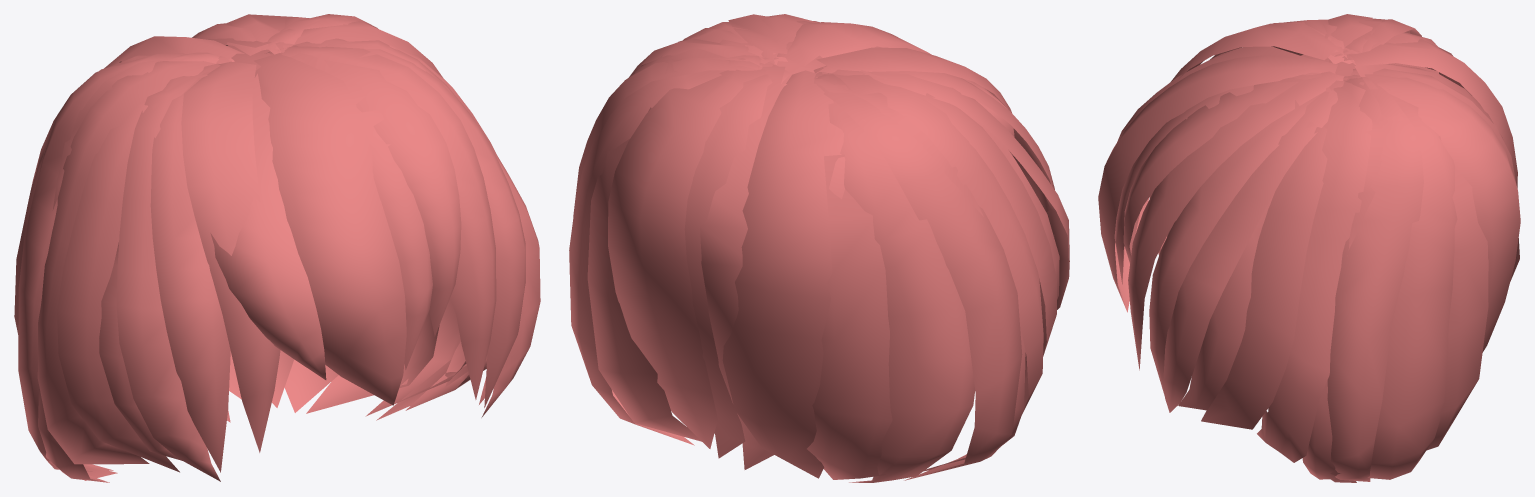
3 renders of one model, left to right at view 1: azimuth 30°, elevation 25°; view 2: azimuth 150°, elevation 25°; view 3: azimuth 270°, elevation 25°, orthographic. The views are drawn at different scales.
Parts seen in each view (by area): view 1: polySurface49; view 2: polySurface49; view 3: polySurface49.
Part boxes in pixels (left/top/right/bottom): polySurface49: left=14, top=14, right=540, bottom=482; polySurface49: left=569, top=14, right=1069, bottom=482; polySurface49: left=1098, top=14, right=1520, bottom=482.
Bounding box in the file's own units: 1.18 × 0.9908 × 1.03.
